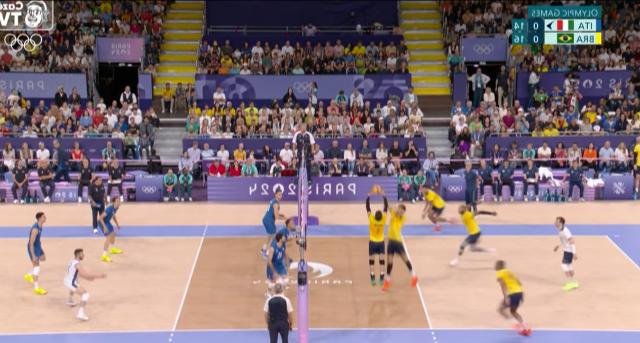Levantador: (366, 188, 386, 288), (259, 186, 283, 248)
Libero: (64, 248, 88, 314), (555, 216, 575, 288)
bola: (372, 184, 382, 194)
